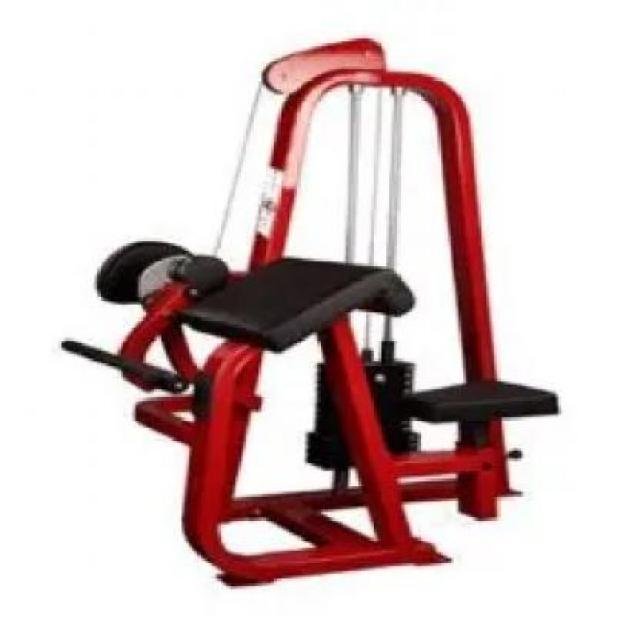arm curl machine: (63, 36, 559, 590)
